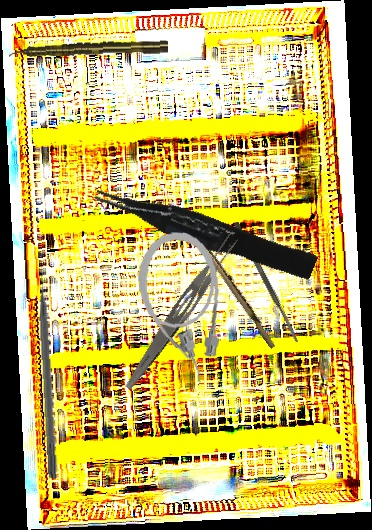Cannula: (134, 228, 227, 387)
Dressing Forceps: (121, 230, 242, 396)
Handpiece: (8, 39, 169, 60)
Pusher: (36, 258, 60, 480)
Spatula Surgical: (232, 220, 301, 345)
Surgical Spoon: (144, 167, 280, 350)
Tissue Forceps: (91, 170, 319, 290)
